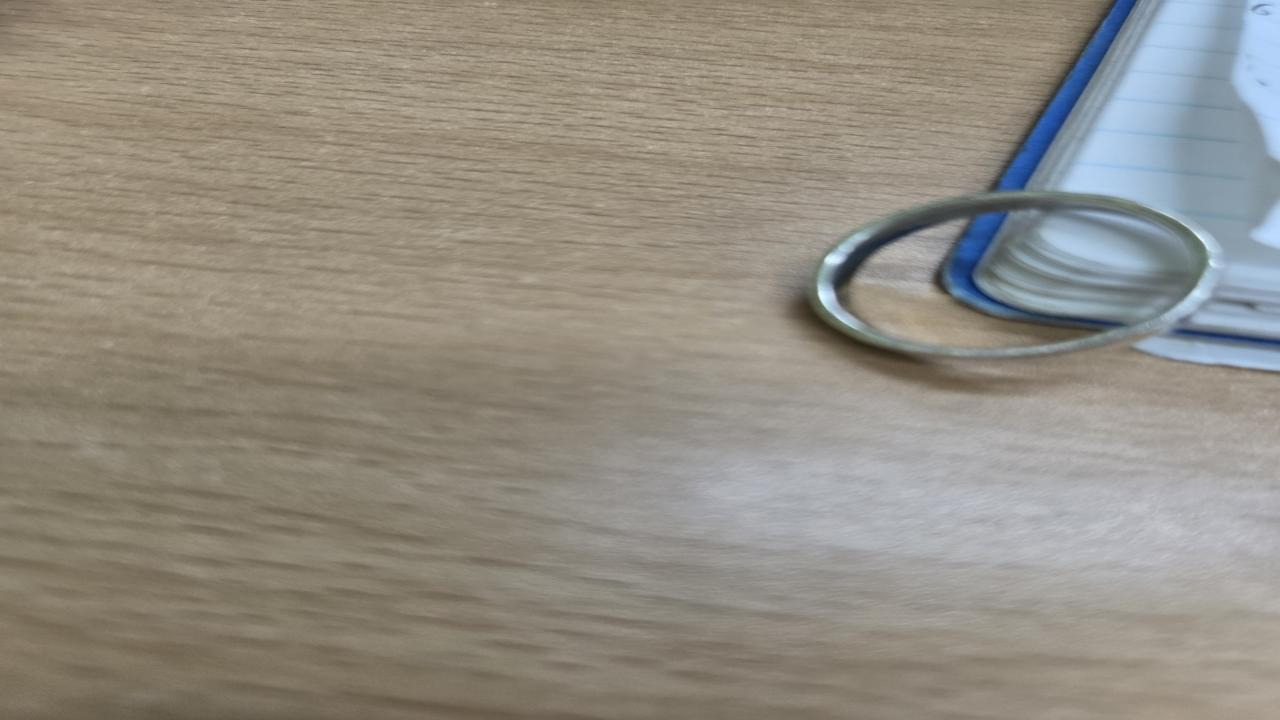ring: (816, 190, 1239, 371)
